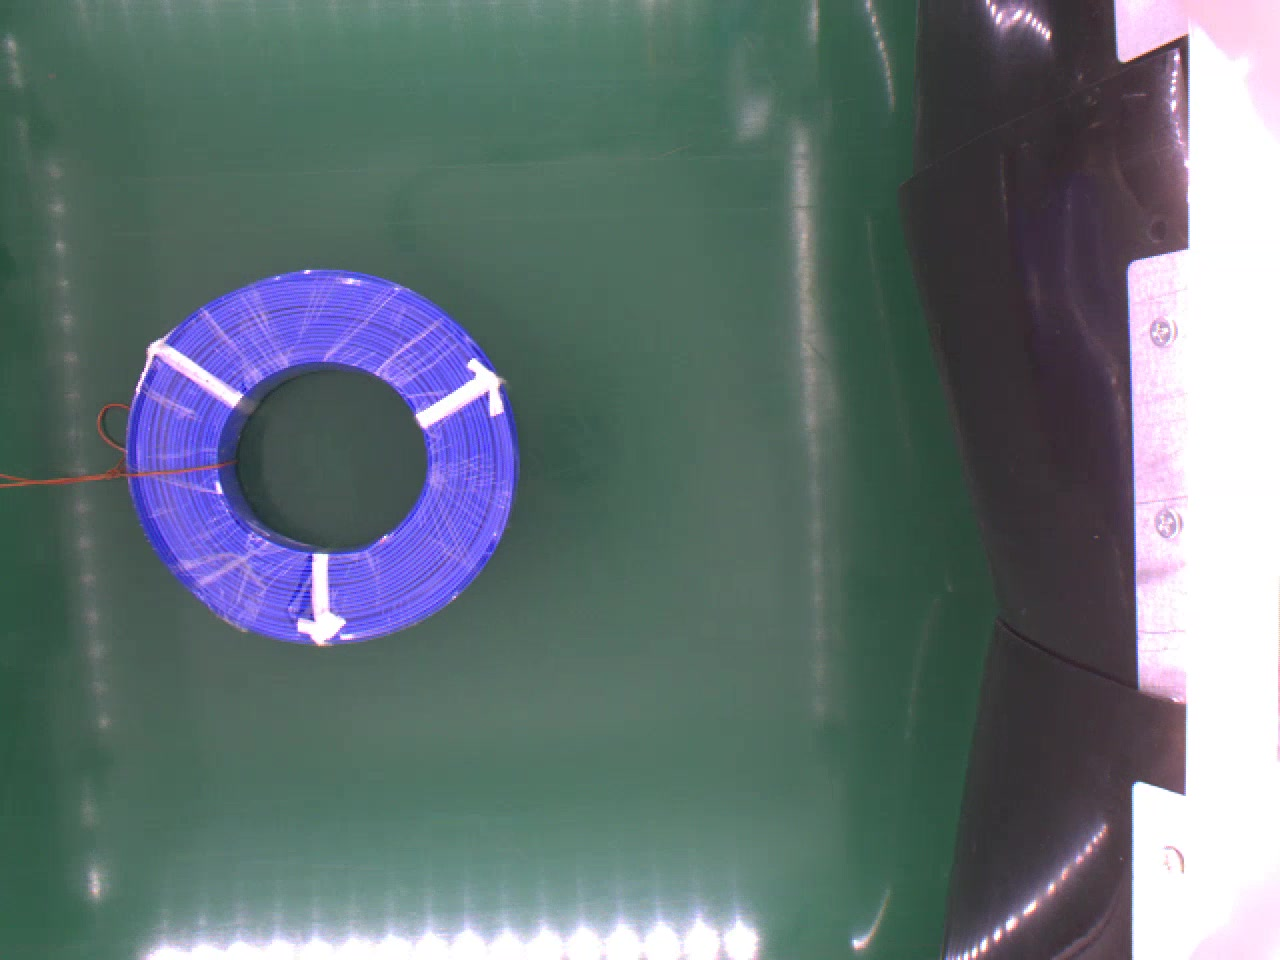blue: (132, 267, 514, 635)
